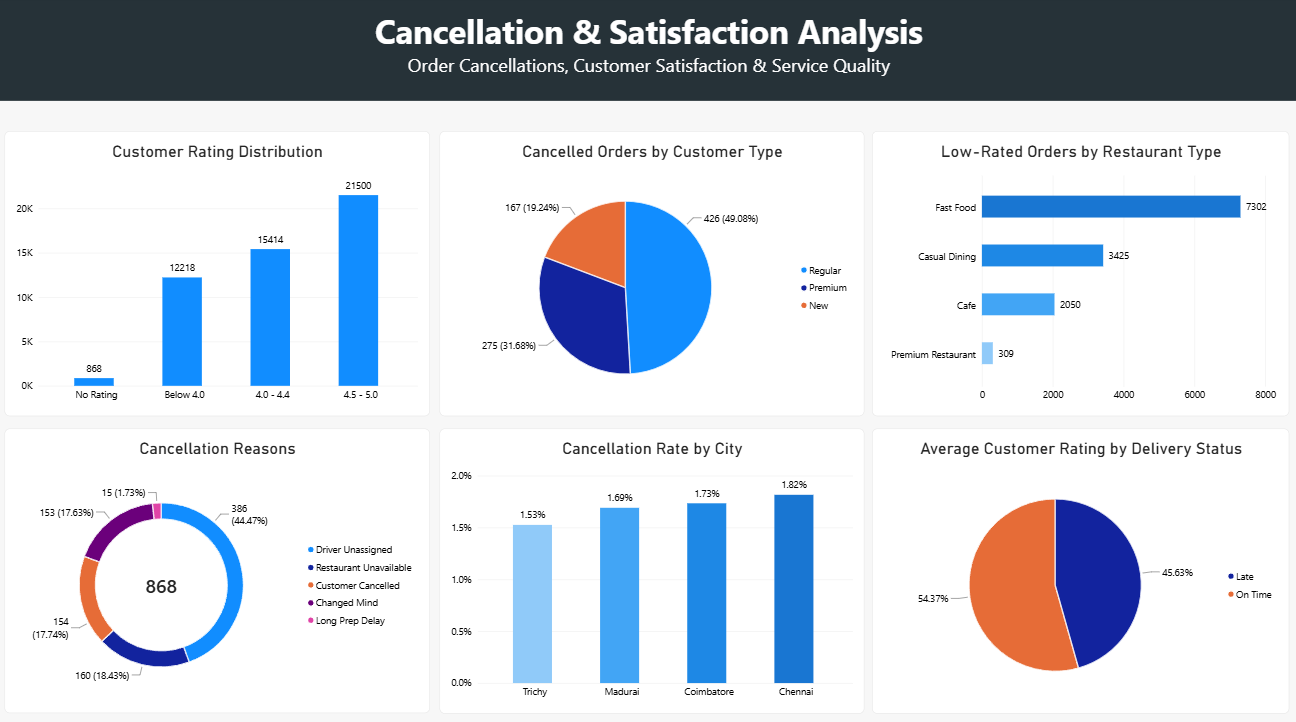

What the dashboard file says about the page in this screenshot:
{"tool":"powerbi","page":{"name":"Cancellation & Satisfaction Analysis","canvas":[1920,1080],"ordinal":4},"visuals":[{"type":"clusteredColumnChart","title":"Cancellation Rate by City","fields":{"Category":["food_delivery_orders_cleaned.city"],"Y":["food_delivery_orders_cleaned.Cancellation Rate"]},"box":[651.5,618.4,625.8,438],"z":0},{"type":"clusteredColumnChart","title":"Customer Rating Distribution","fields":{"Category":["food_delivery_orders_cleaned.Customer Rating Band"],"Y":["food_delivery_orders_cleaned.Total_Orders"]},"box":[11,167.5,625.8,436.2],"z":1000},{"type":"clusteredBarChart","title":"Low-Rated Orders by Restaurant Type","fields":{"Category":["food_delivery_orders_cleaned.restaurant_type"],"Y":["food_delivery_orders_cleaned.Low Rated Orders"]},"box":[1288.4,167.5,614.7,436.2],"z":2000},{"type":"donutChart","title":"Cancellation Reasons","fields":{"Category":["food_delivery_orders_cleaned.cancellation_reason"],"Y":["food_delivery_orders_cleaned.Total_Orders"]},"box":[11,618.4,625.8,438],"z":3000},{"type":"pieChart","title":"Cancelled Orders by Customer Type","fields":{"Category":["food_delivery_orders_cleaned.customer_type"],"Y":["food_delivery_orders_cleaned.Cancelled_Orders"]},"box":[651.5,167.5,625.8,436.2],"z":4000},{"type":"pieChart","title":"Average Customer Rating by Delivery Status","fields":{"Category":["food_delivery_orders_cleaned.Delivery Status"],"Y":["food_delivery_orders_cleaned.Customer Rating"]},"box":[1288.4,618.4,614.7,438],"z":5000},{"type":"textbox","box":[0,0,1920,112],"z":6000},{"type":"textbox","box":[0,112,1920,5],"z":7000},{"type":"textbox","box":[33.1,11,68,68],"z":8000},{"type":"textbox","box":[116,66,1000,34],"z":9000},{"type":"textbox","box":[116,18,1000,52],"z":10000},{"type":"slicer","title":"City","fields":{"Values":["food_delivery_orders_cleaned.city"]},"box":[1110,18,250,80],"z":11000},{"type":"slicer","title":"Customer Type","fields":{"Values":["food_delivery_orders_cleaned.customer_type"]},"box":[1372,18,250,80],"z":12000},{"type":"slicer","title":"Restaurant Type","fields":{"Values":["food_delivery_orders_cleaned.restaurant_type"]},"box":[1634,18,250,80],"z":13000}]}

Visuals, with their boxes in screenshot pixels (x1, y1, x2, y2), scaled from the page's 1920x1080 canvas onto the 1296x722 screenshot:
"Cancellation Rate by City" clusteredColumnChart: l=440, t=413, r=862, b=706
"Customer Rating Distribution" clusteredColumnChart: l=7, t=112, r=430, b=404
"Low-Rated Orders by Restaurant Type" clusteredBarChart: l=870, t=112, r=1285, b=404
"Cancellation Reasons" donutChart: l=7, t=413, r=430, b=706
"Cancelled Orders by Customer Type" pieChart: l=440, t=112, r=862, b=404
"Average Customer Rating by Delivery Status" pieChart: l=870, t=413, r=1285, b=706
textbox: l=0, t=0, r=1295, b=75
textbox: l=0, t=75, r=1295, b=78
textbox: l=22, t=7, r=68, b=53
textbox: l=78, t=44, r=753, b=67
textbox: l=78, t=12, r=753, b=47
"City" slicer: l=749, t=12, r=918, b=66
"Customer Type" slicer: l=926, t=12, r=1095, b=66
"Restaurant Type" slicer: l=1103, t=12, r=1272, b=66
